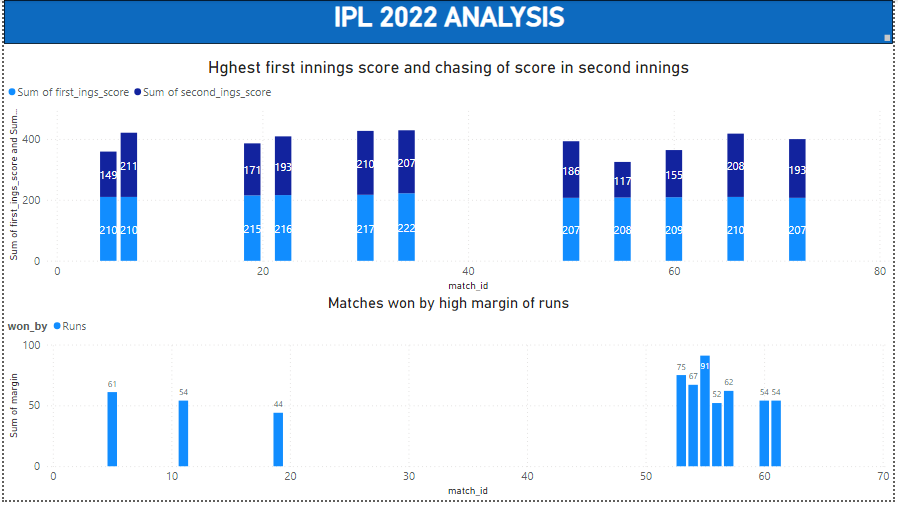

The page's visual inventory and layout, read from the dashboard file:
{"tool":"powerbi","page":{"name":"Page 2","canvas":[1280,720],"ordinal":1},"visuals":[{"type":"columnChart","title":"Hghest first innings score and chasing of score in second innings","fields":{"Y":["Sum(ipl_2022_edited.first_ings_score)","Sum(ipl_2022_edited.second_ings_score)"],"Category":["ipl_2022_edited.match_id"]},"box":[0,82.9,1280,340.3],"z":0},{"type":"textbox","title":"IPL 2022 ANALYSIS","box":[0,0,1280,63.5],"z":1},{"type":"columnChart","title":"Matches won by high margin of runs","fields":{"Category":["ipl_2022_edited.match_id"],"Y":["Sum(ipl_2022_edited.margin)"],"Series":["ipl_2022_edited.won_by"]},"box":[0,423.1,1280,296.2],"z":2}]}

Visuals, with their boxes in screenshot pixels (x1, y1, x2, y2), scaled from the page's 1280x720 canvas onto the 898x506 screenshot:
"Hghest first innings score and chasing of score in second innings" columnChart: pyautogui.locateOnScreen(0, 58, 897, 297)
"IPL 2022 ANALYSIS" textbox: pyautogui.locateOnScreen(0, 0, 897, 45)
"Matches won by high margin of runs" columnChart: pyautogui.locateOnScreen(0, 297, 897, 505)
